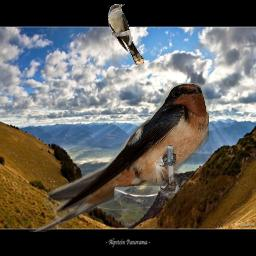Cuckoo: (108, 4, 144, 65)
Swallow: (27, 83, 209, 232)
